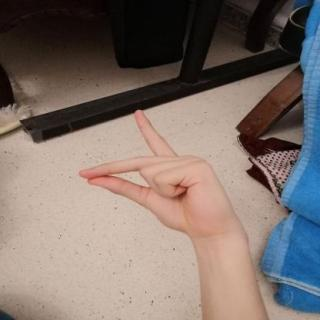TAA: (68, 103, 247, 240)
